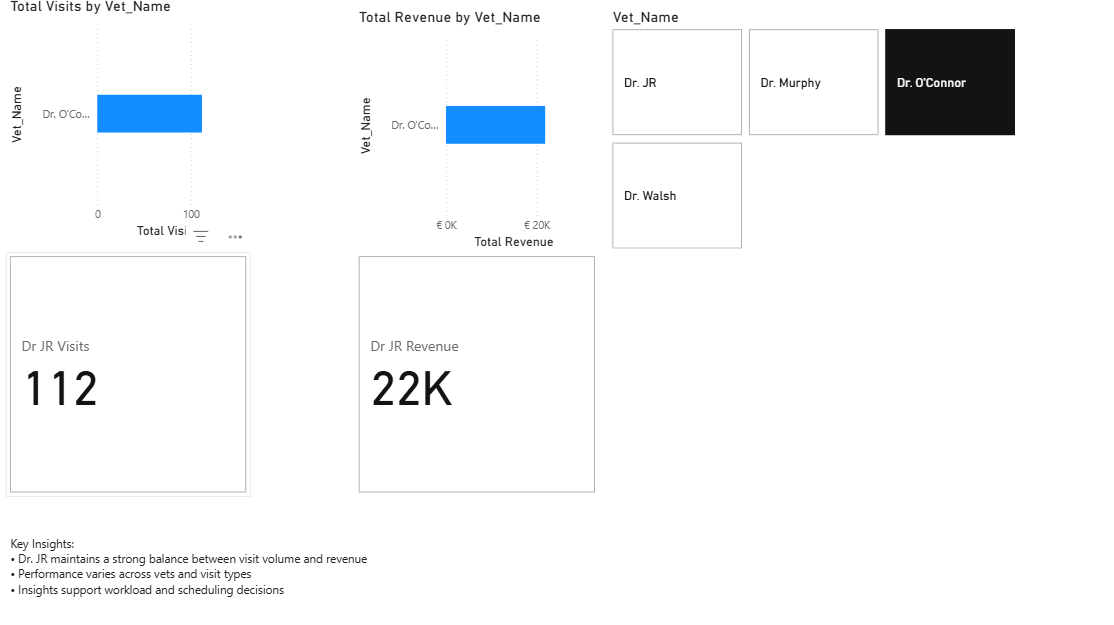

The dashboard page shown, as its layout file describes it:
{"tool":"powerbi","page":{"name":"Vet Performance","canvas":[1280,720],"ordinal":2},"visuals":[{"type":"clusteredBarChart","fields":{"Category":["Vet_clinic_Data.Vet_Name"],"Y":["Vet_clinic_Data.Total Visits"]},"box":[10,0,280,280],"z":0},{"type":"clusteredBarChart","fields":{"Category":["Vet_clinic_Data.Vet_Name"],"Y":["Vet_clinic_Data.Total Revenue"]},"box":[408.9,12.2,280,280],"z":1000},{"type":"cardVisual","fields":{"Data":["Vet_clinic_Data.Dr JR Visits"]},"box":[10,292,280,280],"z":2000},{"type":"cardVisual","fields":{"Data":["Vet_clinic_Data.Dr JR Revenue"]},"box":[409,292,280,280],"z":3000},{"type":"advancedSlicerVisual","fields":{"Values":["Vet_clinic_Data.Vet_Name"]},"box":[699.1,12.4,471.5,279.9],"z":4000},{"type":"textbox","box":[10,610,470,98.6],"z":5000}]}

Visuals, with their boxes in screenshot pixels (x1, y1, x2, y2), scaled from the page's 1280x720 canvas onto the 1114x625 screenshot:
clusteredBarChart - Vet_clinic_Data.Vet_Name x Vet_clinic_Data.Total Visits: box=[9, 0, 252, 243]
clusteredBarChart - Vet_clinic_Data.Vet_Name x Vet_clinic_Data.Total Revenue: box=[356, 11, 600, 254]
cardVisual - Vet_clinic_Data.Dr JR Visits: box=[9, 253, 252, 497]
cardVisual - Vet_clinic_Data.Dr JR Revenue: box=[356, 253, 600, 497]
advancedSlicerVisual - Vet_clinic_Data.Vet_Name: box=[608, 11, 1019, 254]
textbox: box=[9, 530, 418, 615]
